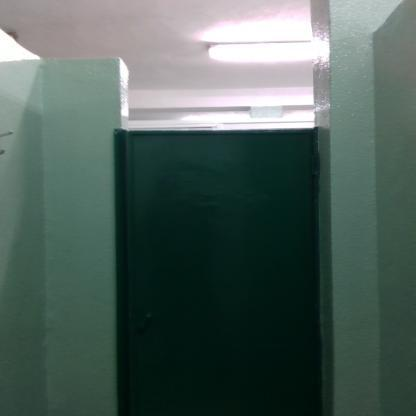door: (132, 133, 319, 415)
hinged: (312, 152, 323, 174)
